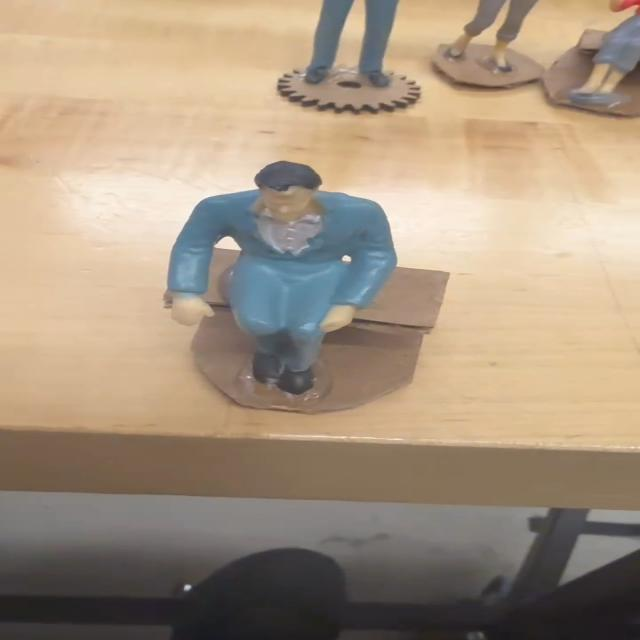Authorized: (153, 135, 416, 406)
